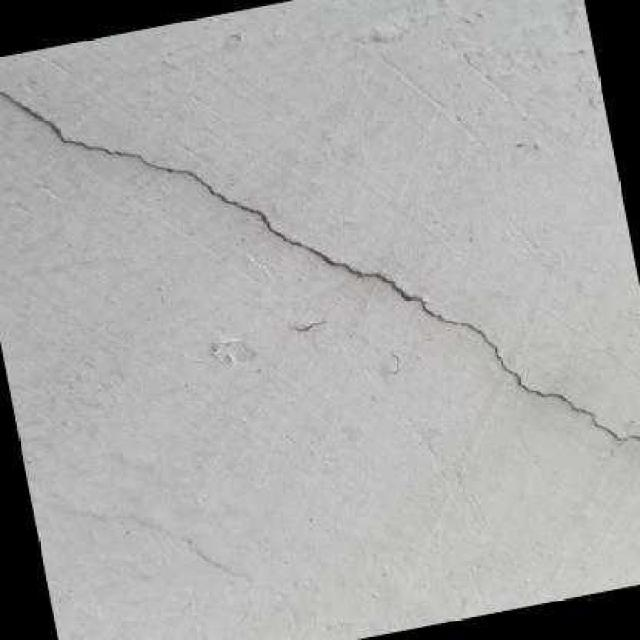D00: (0, 87, 640, 442)
